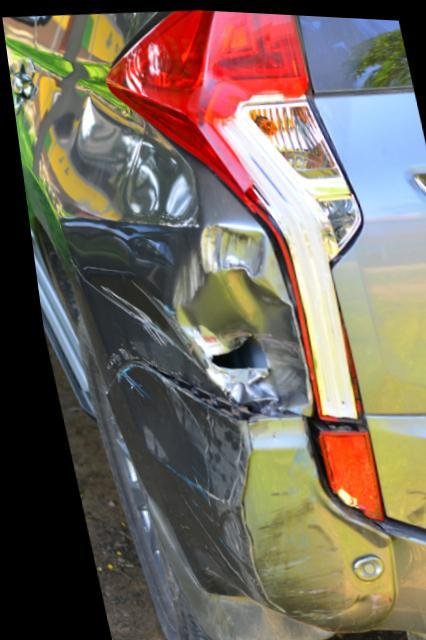dent: (35, 82, 284, 413)
lamp broken: (104, 8, 355, 417)
scratch: (110, 356, 311, 626)
